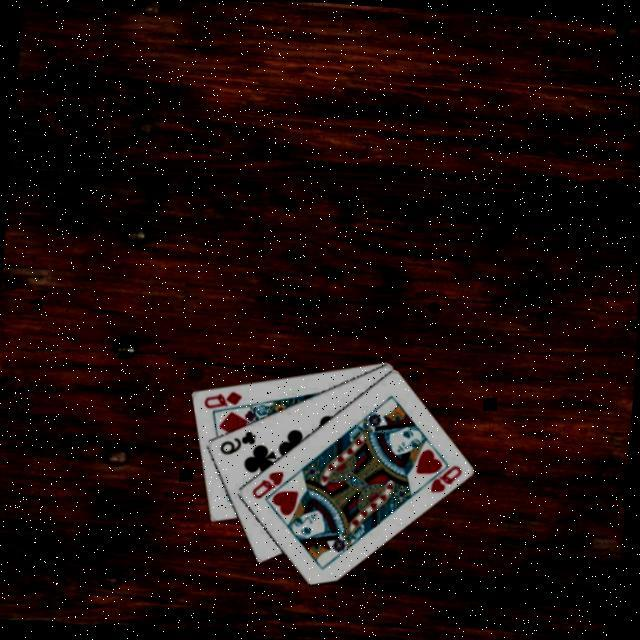9C: (217, 426, 260, 461)
QD: (201, 387, 246, 415)
QH: (419, 459, 465, 497), (249, 467, 287, 503)
